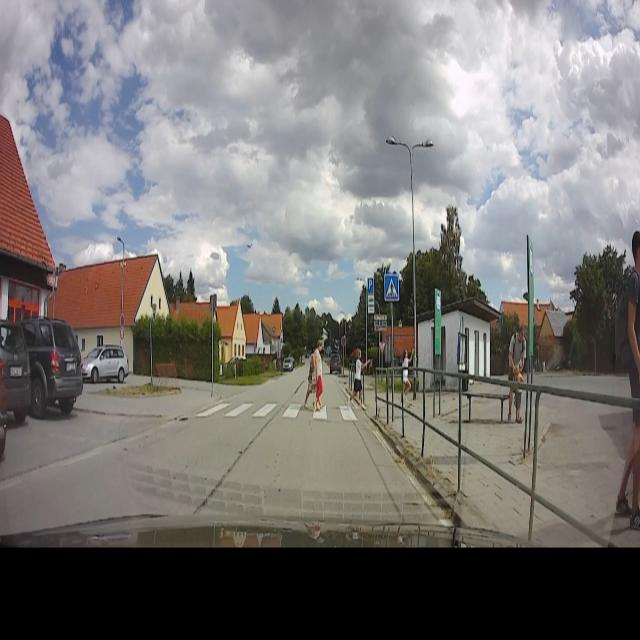Pedestrian crosswalk: (198, 392, 368, 427), (384, 273, 399, 300)
Person: (613, 226, 640, 529), (508, 324, 526, 423), (396, 343, 418, 405), (311, 334, 327, 414), (349, 344, 367, 412), (308, 342, 320, 409)
